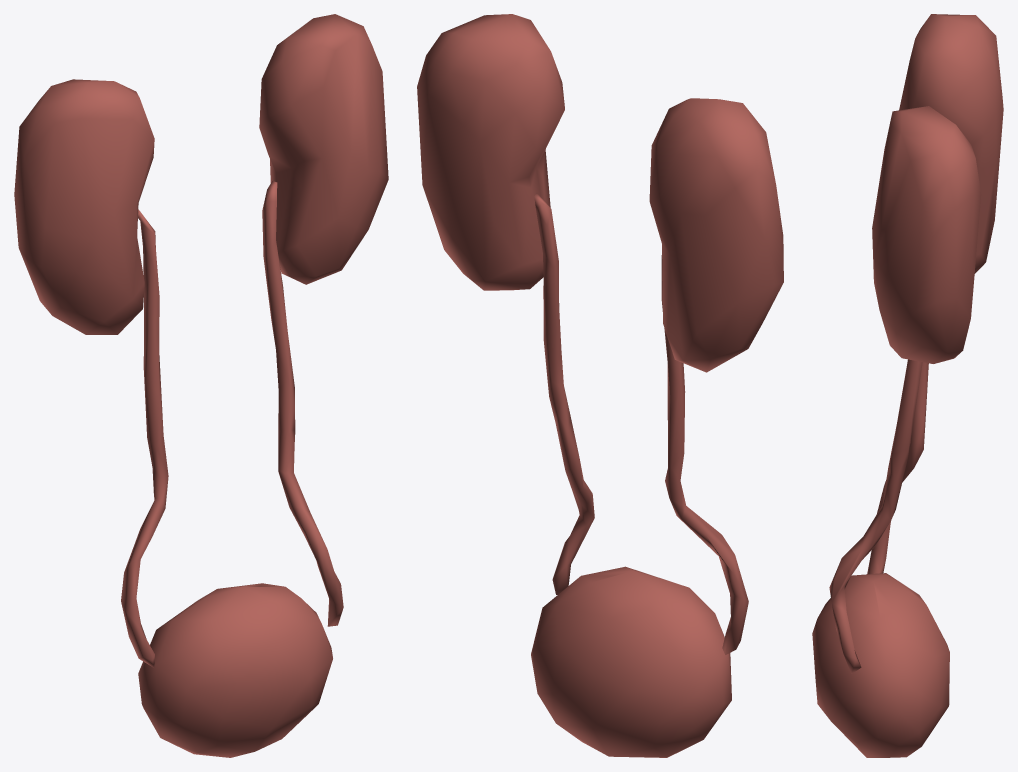
Rendered from pediatric_adolescent_male.urinary.LOD2.glb.
3 views of the same model, side by side, from view 1: azimuth 30°, elevation 25°; view 2: azimuth 150°, elevation 25°; view 3: azimuth 270°, elevation 25° (orthographic). The views are drawn at different scales.
Visible parts, largest first — view 1: PEDIATRIC.ADOLESCENT.MALE.URINARY.KIDNEY_CORTEX.R, PEDIATRIC.ADOLESCENT.MALE.URINARY.KIDNEY_CORTEX.L, PEDIATRIC.ADOLESCENT.MALE.URINARY.URINARY_BLADDER_WALL, PEDIATRIC.ADOLESCENT.MALE.URINARY.URETER.L, PEDIATRIC.ADOLESCENT.MALE.URINARY.URETER.R; view 2: PEDIATRIC.ADOLESCENT.MALE.URINARY.KIDNEY_CORTEX.L, PEDIATRIC.ADOLESCENT.MALE.URINARY.URINARY_BLADDER_WALL, PEDIATRIC.ADOLESCENT.MALE.URINARY.KIDNEY_CORTEX.R, PEDIATRIC.ADOLESCENT.MALE.URINARY.URETER.L, PEDIATRIC.ADOLESCENT.MALE.URINARY.URETER.R; view 3: PEDIATRIC.ADOLESCENT.MALE.URINARY.KIDNEY_CORTEX.L, PEDIATRIC.ADOLESCENT.MALE.URINARY.URINARY_BLADDER_WALL, PEDIATRIC.ADOLESCENT.MALE.URINARY.KIDNEY_CORTEX.R, PEDIATRIC.ADOLESCENT.MALE.URINARY.URETER.L, PEDIATRIC.ADOLESCENT.MALE.URINARY.URETER.R.
Boxes of the visible parts, bbox=[...] form: PEDIATRIC.ADOLESCENT.MALE.URINARY.KIDNEY_CORTEX.R: bbox=[14, 79, 154, 334]; PEDIATRIC.ADOLESCENT.MALE.URINARY.KIDNEY_CORTEX.L: bbox=[259, 14, 388, 284]; PEDIATRIC.ADOLESCENT.MALE.URINARY.URINARY_BLADDER_WALL: bbox=[138, 583, 332, 757]; PEDIATRIC.ADOLESCENT.MALE.URINARY.URETER.L: bbox=[262, 181, 343, 626]; PEDIATRIC.ADOLESCENT.MALE.URINARY.URETER.R: bbox=[121, 209, 168, 667]; PEDIATRIC.ADOLESCENT.MALE.URINARY.KIDNEY_CORTEX.L: bbox=[417, 14, 564, 290]; PEDIATRIC.ADOLESCENT.MALE.URINARY.URINARY_BLADDER_WALL: bbox=[531, 566, 731, 757]; PEDIATRIC.ADOLESCENT.MALE.URINARY.KIDNEY_CORTEX.R: bbox=[649, 98, 783, 372]; PEDIATRIC.ADOLESCENT.MALE.URINARY.URETER.L: bbox=[534, 193, 594, 594]; PEDIATRIC.ADOLESCENT.MALE.URINARY.URETER.R: bbox=[661, 255, 748, 654]; PEDIATRIC.ADOLESCENT.MALE.URINARY.KIDNEY_CORTEX.L: bbox=[872, 106, 981, 363]; PEDIATRIC.ADOLESCENT.MALE.URINARY.URINARY_BLADDER_WALL: bbox=[812, 573, 949, 757]; PEDIATRIC.ADOLESCENT.MALE.URINARY.KIDNEY_CORTEX.R: bbox=[899, 14, 1003, 273]; PEDIATRIC.ADOLESCENT.MALE.URINARY.URETER.L: bbox=[829, 359, 922, 673]; PEDIATRIC.ADOLESCENT.MALE.URINARY.URETER.R: bbox=[867, 362, 928, 574].
Size of the model in its own units: 0.1685 by 0.3149 by 0.0794.
